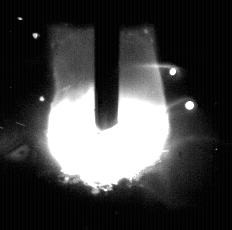arame: (96, 0, 119, 131)
poca: (46, 0, 170, 230)
